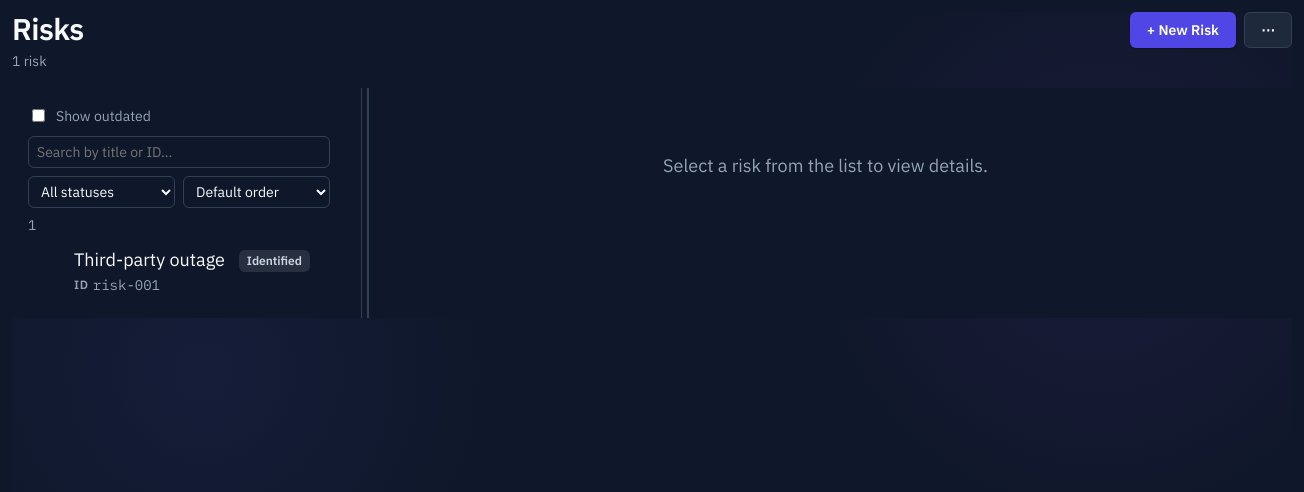
Test: RiskEditors Task 2.2 concept remodel (PageHeader / ArtifactRow / Dialog / EmptyState) › shows the no-match variant with only a reset-filters action when the filter matches nothing
Type "no such risk title" into the search field with test id "risk-list-search-input" at x=179, y=152, box left=28, top=136, right=330, bottom=168
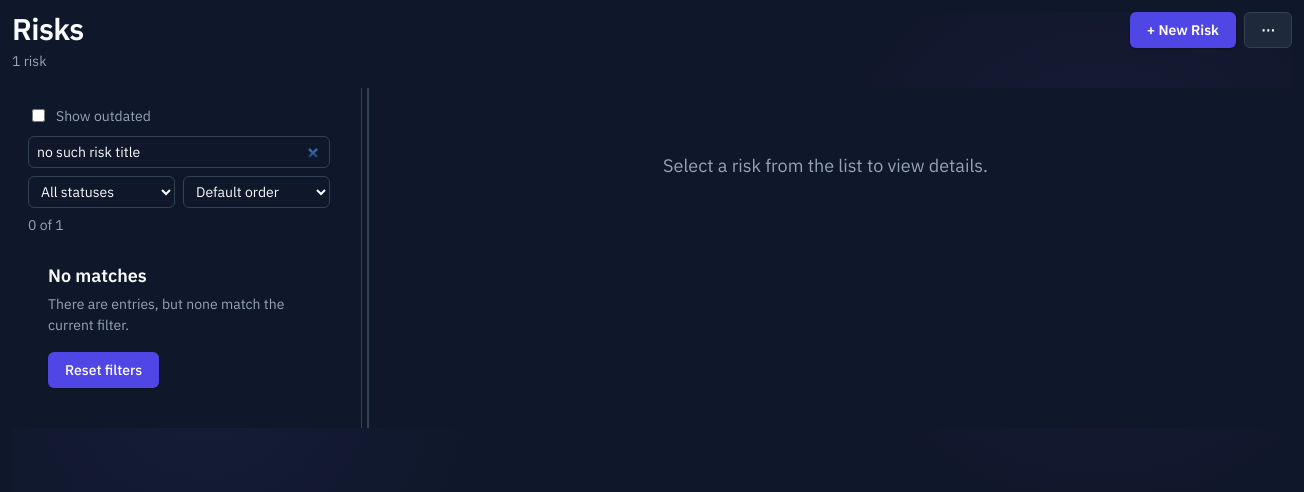
Expected: the element with test id "risk-list-no-match" is shown, left=48, top=264, right=284, bottom=388
Expected: the button with test id "risk-list-no-match-reset-filters" is shown, left=48, top=352, right=159, bottom=388
